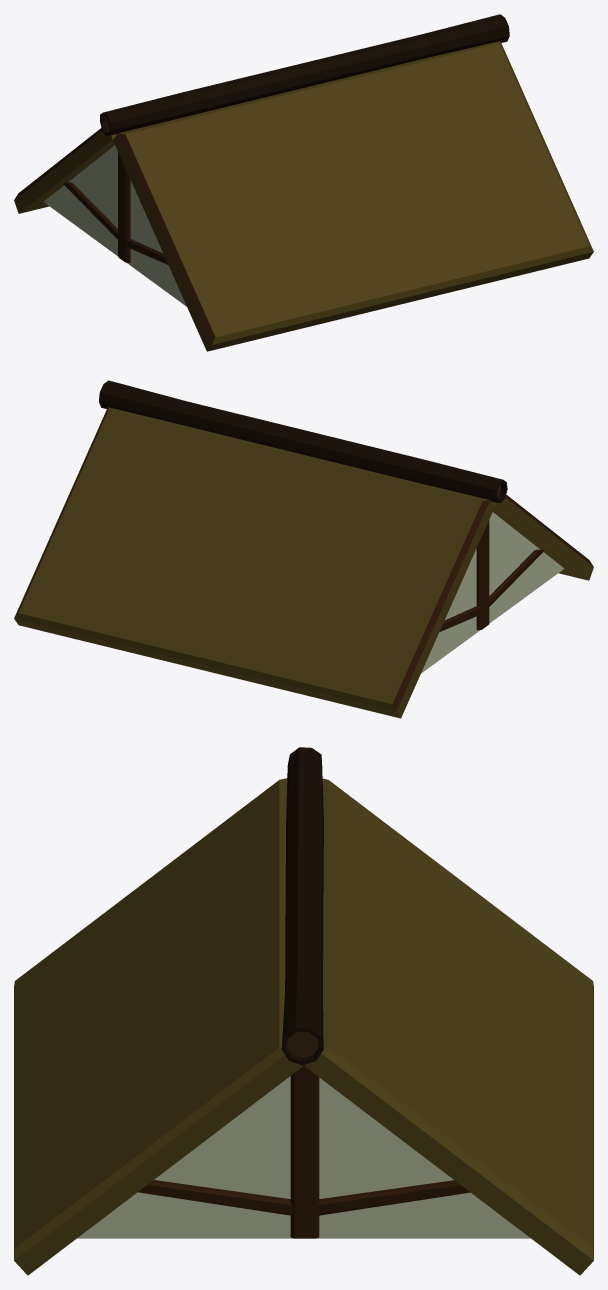
File: Roof_Whole02_FBX.fbx
3 renders of one model, top to bottom at view 1: azimuth 30°, elevation 25°; view 2: azimuth 150°, elevation 25°; view 3: azimuth 270°, elevation 25°, orthographic. The views are drawn at different scales.
Visible parts, largest first — view 1: Roof012, LOG 021, Box146, Roof011, Roof_Whole, Box305; view 2: Roof011, LOG 021, Box146, Roof012, Roof_Whole, Box304; view 3: Roof012, Roof011, Box146, LOG 021, Roof_Whole, Box307, Box306.
Boxes of the visible parts, bbox=[...] form: Roof012: bbox=[113, 41, 593, 351]; LOG 021: bbox=[100, 14, 509, 135]; Box146: bbox=[43, 145, 186, 306]; Roof011: bbox=[14, 128, 116, 213]; Roof_Whole: bbox=[118, 152, 130, 262]; Box305: bbox=[63, 182, 126, 248]; Roof011: bbox=[14, 407, 494, 718]; LOG 021: bbox=[99, 380, 507, 502]; Box146: bbox=[421, 512, 564, 673]; Roof012: bbox=[491, 495, 593, 580]; Roof_Whole: bbox=[476, 520, 489, 630]; Box304: bbox=[480, 549, 543, 615]; Roof012: bbox=[14, 778, 303, 1275]; Roof011: bbox=[304, 778, 593, 1275]; Box146: bbox=[77, 1076, 530, 1238]; LOG 021: bbox=[281, 747, 323, 1065]; Roof_Whole: bbox=[290, 1065, 319, 1238]; Box307: bbox=[138, 1180, 317, 1217]; Box306: bbox=[292, 1180, 470, 1217].
Bounding box in the file's own units: 934 × 387 × 806.
